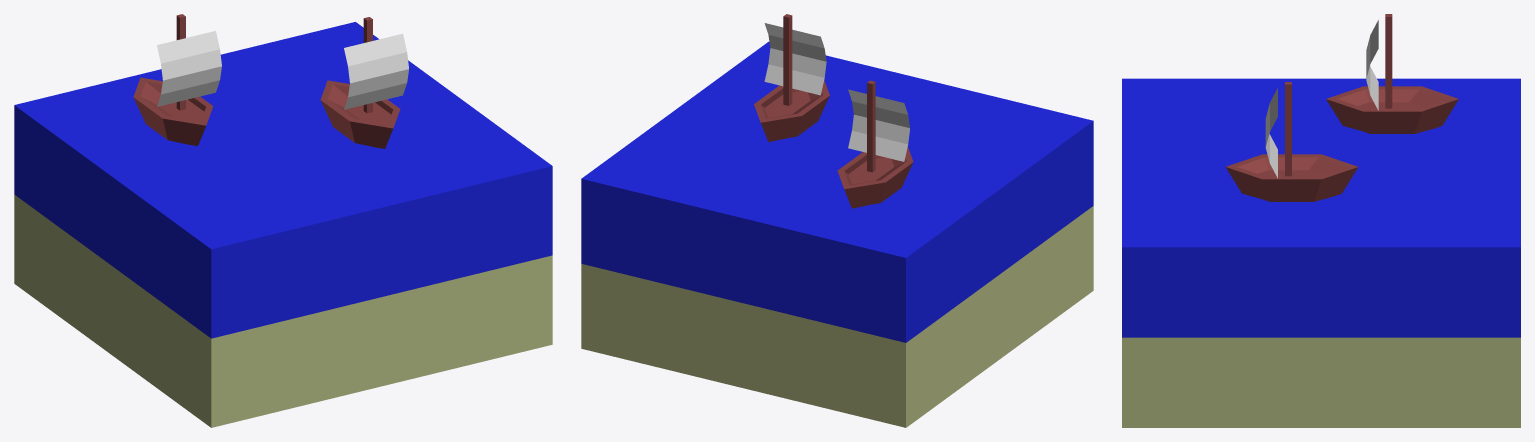
The model's file is Boats.glb.
3 views of the same model, side by side, from view 1: azimuth 30°, elevation 25°; view 2: azimuth 150°, elevation 25°; view 3: azimuth 270°, elevation 25° (orthographic). The views are drawn at different scales.
Visible parts, largest first — view 1: Boats; view 2: Boats; view 3: Boats.
Part boxes in pixels (<box>): Boats: <box>14,14,552,427</box>; Boats: <box>581,14,1093,427</box>; Boats: <box>1122,14,1520,427</box>.
Size of the model in its own units: 2 by 1.63 by 2.
